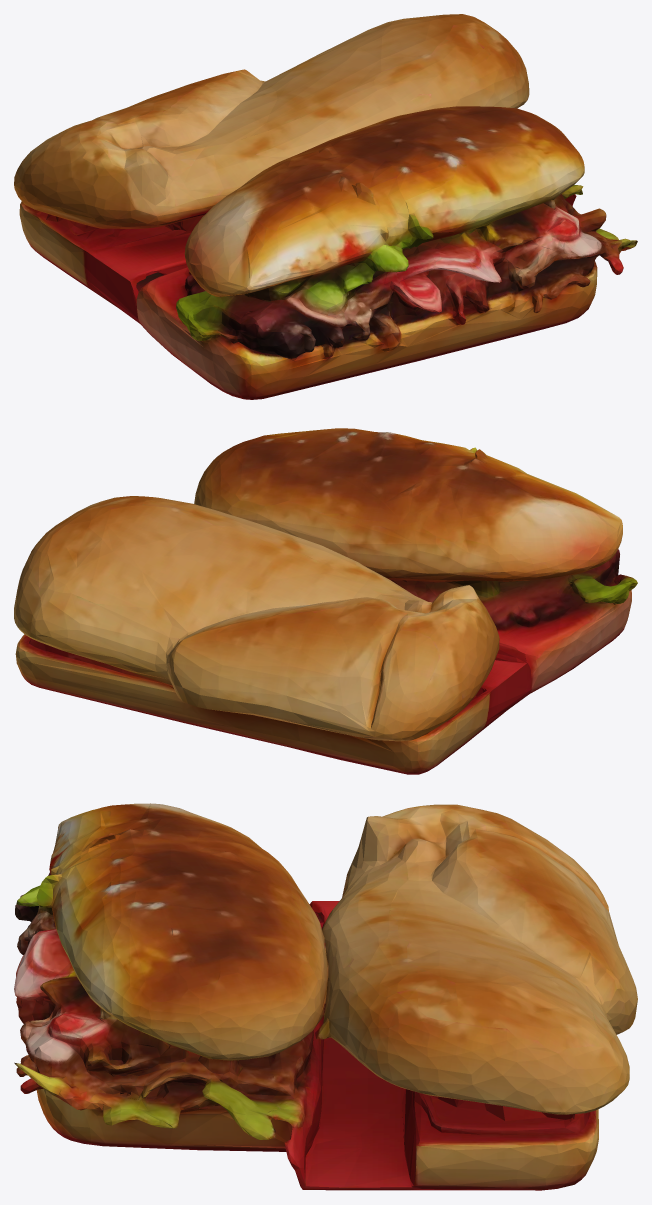
The model's file is food_sandwich_sub.glb.
3 views of the same model, one above another, from view 1: azimuth 30°, elevation 25°; view 2: azimuth 150°, elevation 25°; view 3: azimuth 270°, elevation 25° (orthographic). The views are drawn at different scales.
Parts seen in each view (by area): view 1: geometry_0; view 2: geometry_0; view 3: geometry_0.
Part boxes in pixels (x1,y1,x2,y2): geometry_0: (14,14,637,399); geometry_0: (14,428,637,774); geometry_0: (14,803,637,1190).
Size of the model in its own units: 0.9982 by 0.3511 by 0.987.
1 material, 1 textured.
